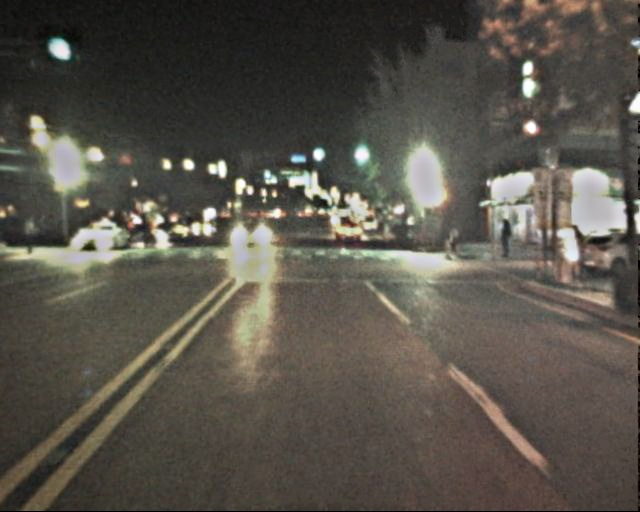person: (559, 222, 592, 293), (496, 217, 515, 263), (445, 220, 463, 264)
